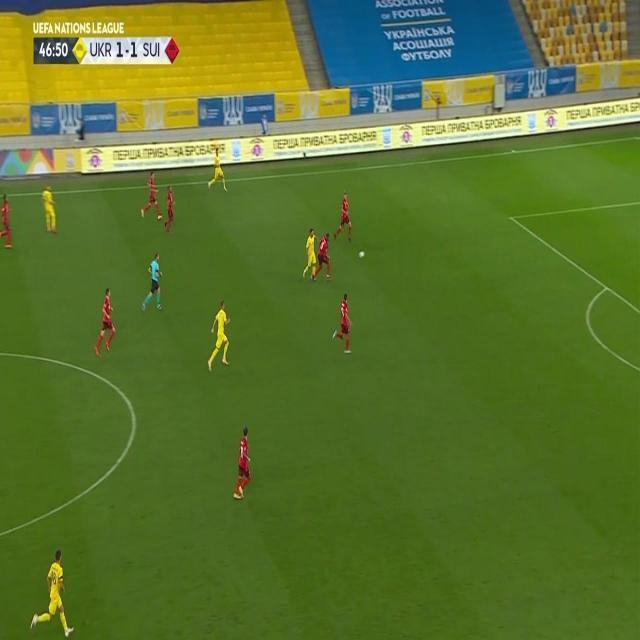ball: (358, 249, 365, 259)
player: (28, 548, 75, 640), (206, 300, 233, 371), (94, 287, 117, 357), (233, 425, 253, 503), (332, 291, 354, 356), (140, 170, 162, 223), (334, 190, 354, 243), (313, 231, 333, 282), (208, 146, 228, 192), (40, 182, 58, 232), (301, 228, 317, 279), (0, 191, 14, 249), (162, 184, 176, 234)
referee: (140, 247, 162, 307)
